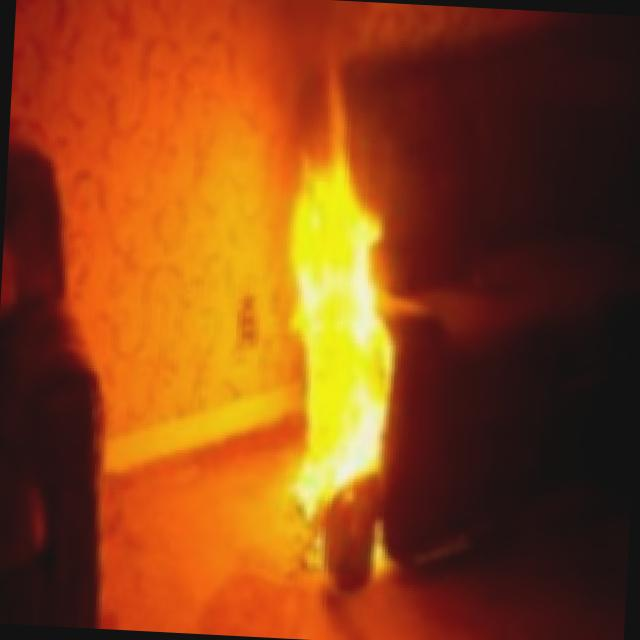fire: (261, 148, 440, 528)
